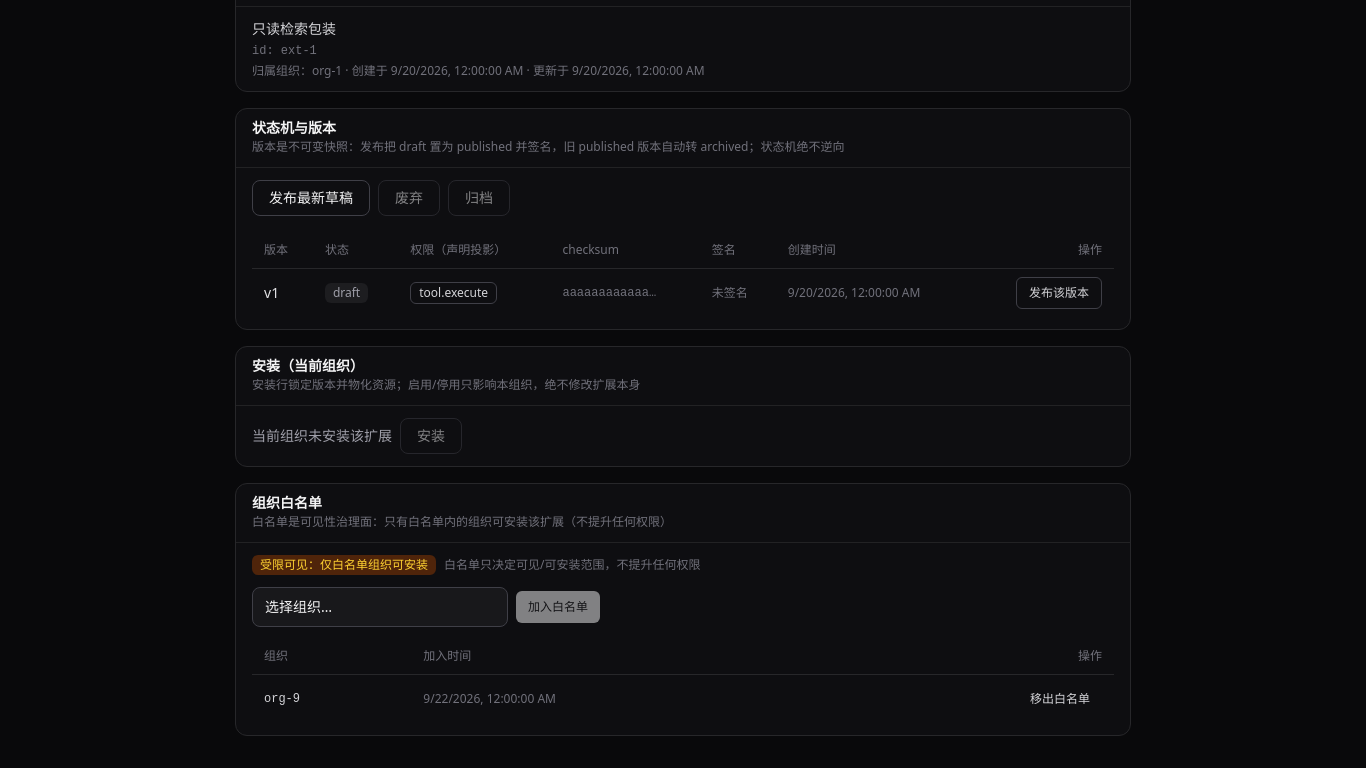
it: 扩展详情：组织白名单 › 读出条目并可移出（DELETE 落到 /allowlist/:organizationId）
(page scrolled)
Expected: the text "org-9" is shown, [252,674,411,723]
Expected: the text "受限可见：仅白名单组织可安装" is shown, [252,554,436,574]
Click the button "移出白名单" at (1060, 699), box [1018,683,1102,715]
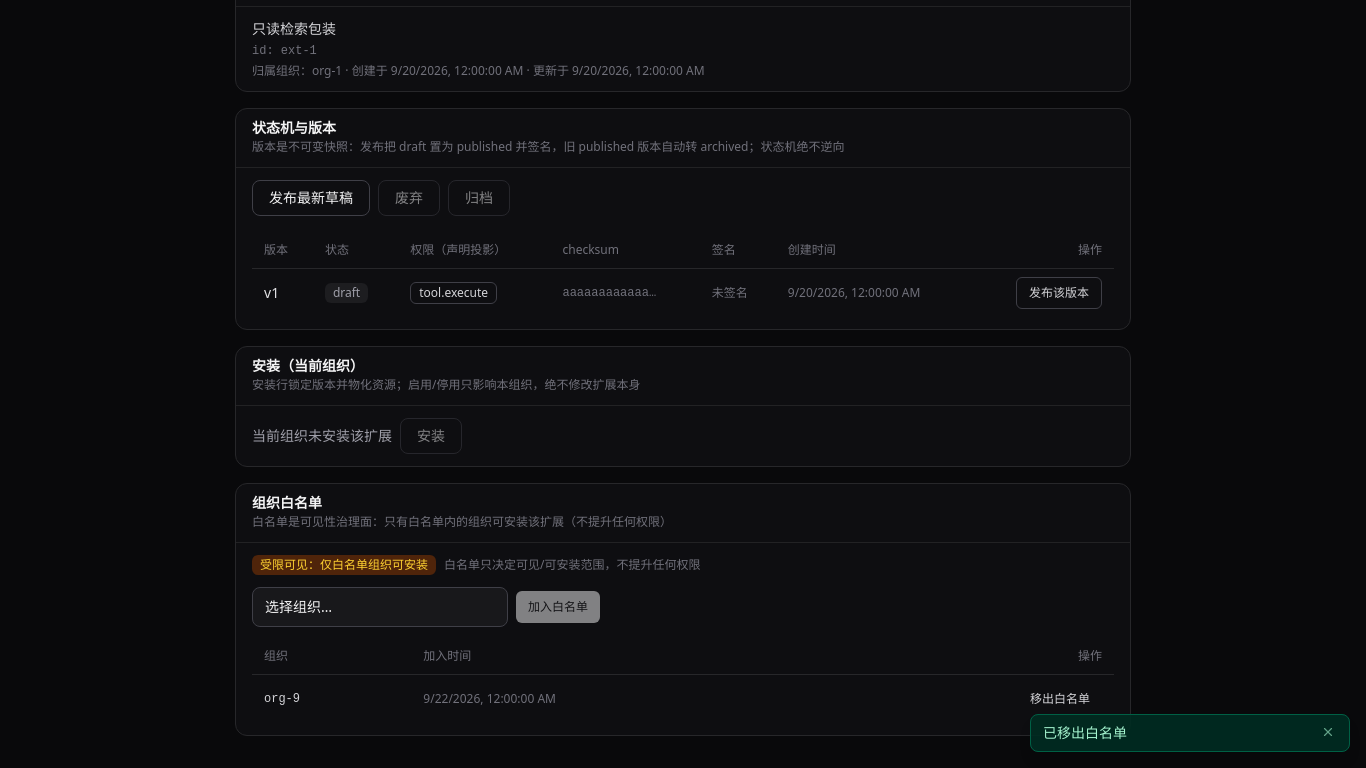
Now the text "已移出白名单" is shown, box [1043,723,1127,742]
